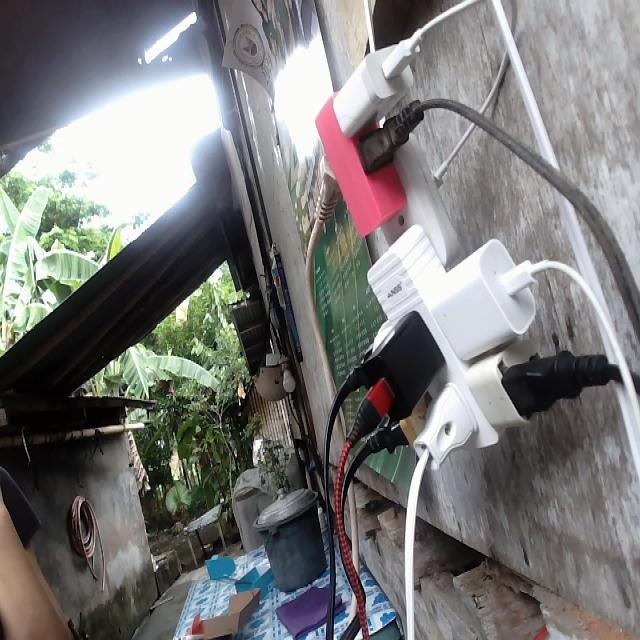-: (313, 32, 583, 467)
